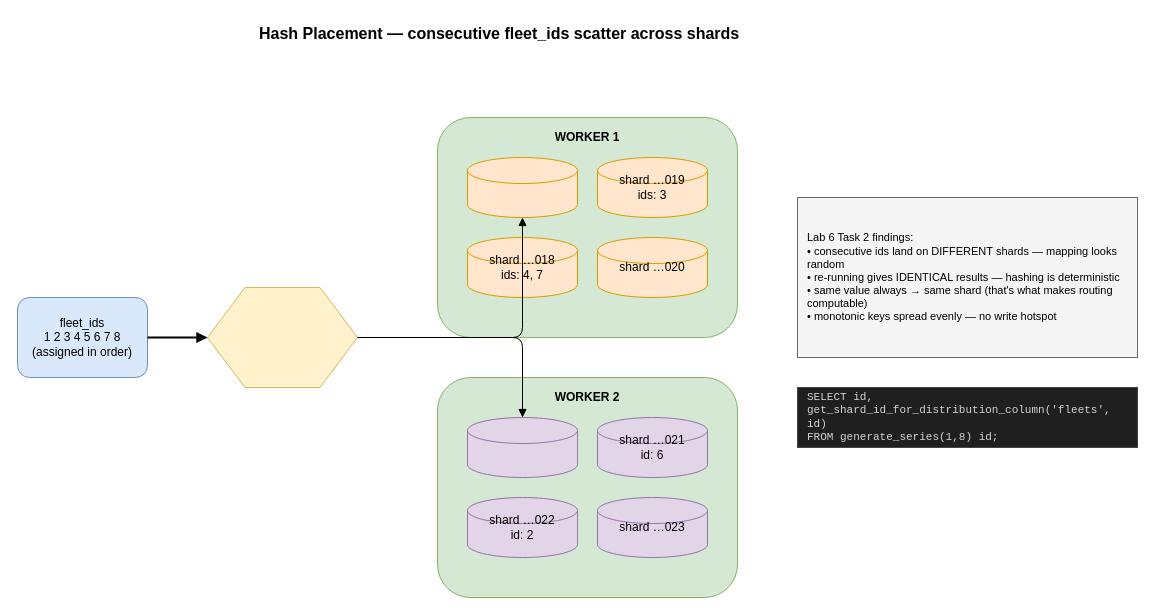
Image size: 1155x615. Some labels were removed from this diagram. The centre of each missing label's shape, as x and y in pixels:
hash(fleet_id) → token range: the point at 282,337
shard …016 ids: 1, 8: the point at 522,187
shard …017 id: 5: the point at 522,447
